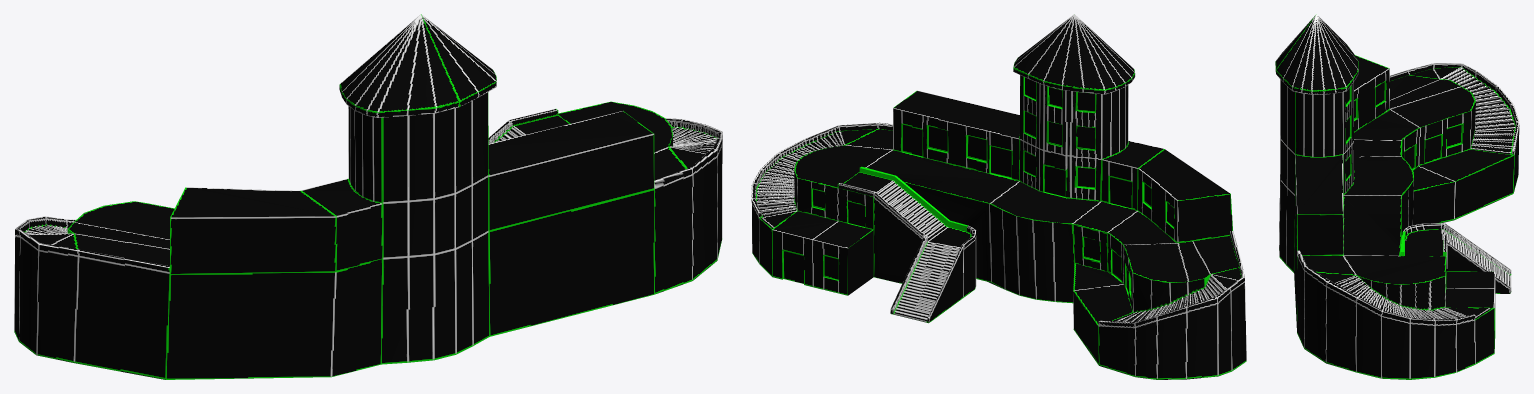
The model's file is Vineyard.fbx.
3 renders of one model, left to right at view 1: azimuth 30°, elevation 25°; view 2: azimuth 150°, elevation 25°; view 3: azimuth 270°, elevation 25°, orthographic. The views are drawn at different scales.
Visible parts, largest first — view 1: Box009; view 2: Box009; view 3: Box009.
Part boxes in pixels (<box>): Box009: <box>14,14,722,379</box>; Box009: <box>751,14,1246,379</box>; Box009: <box>1275,14,1519,379</box>.
Size of the model in its own units: 284 by 135 by 124.
